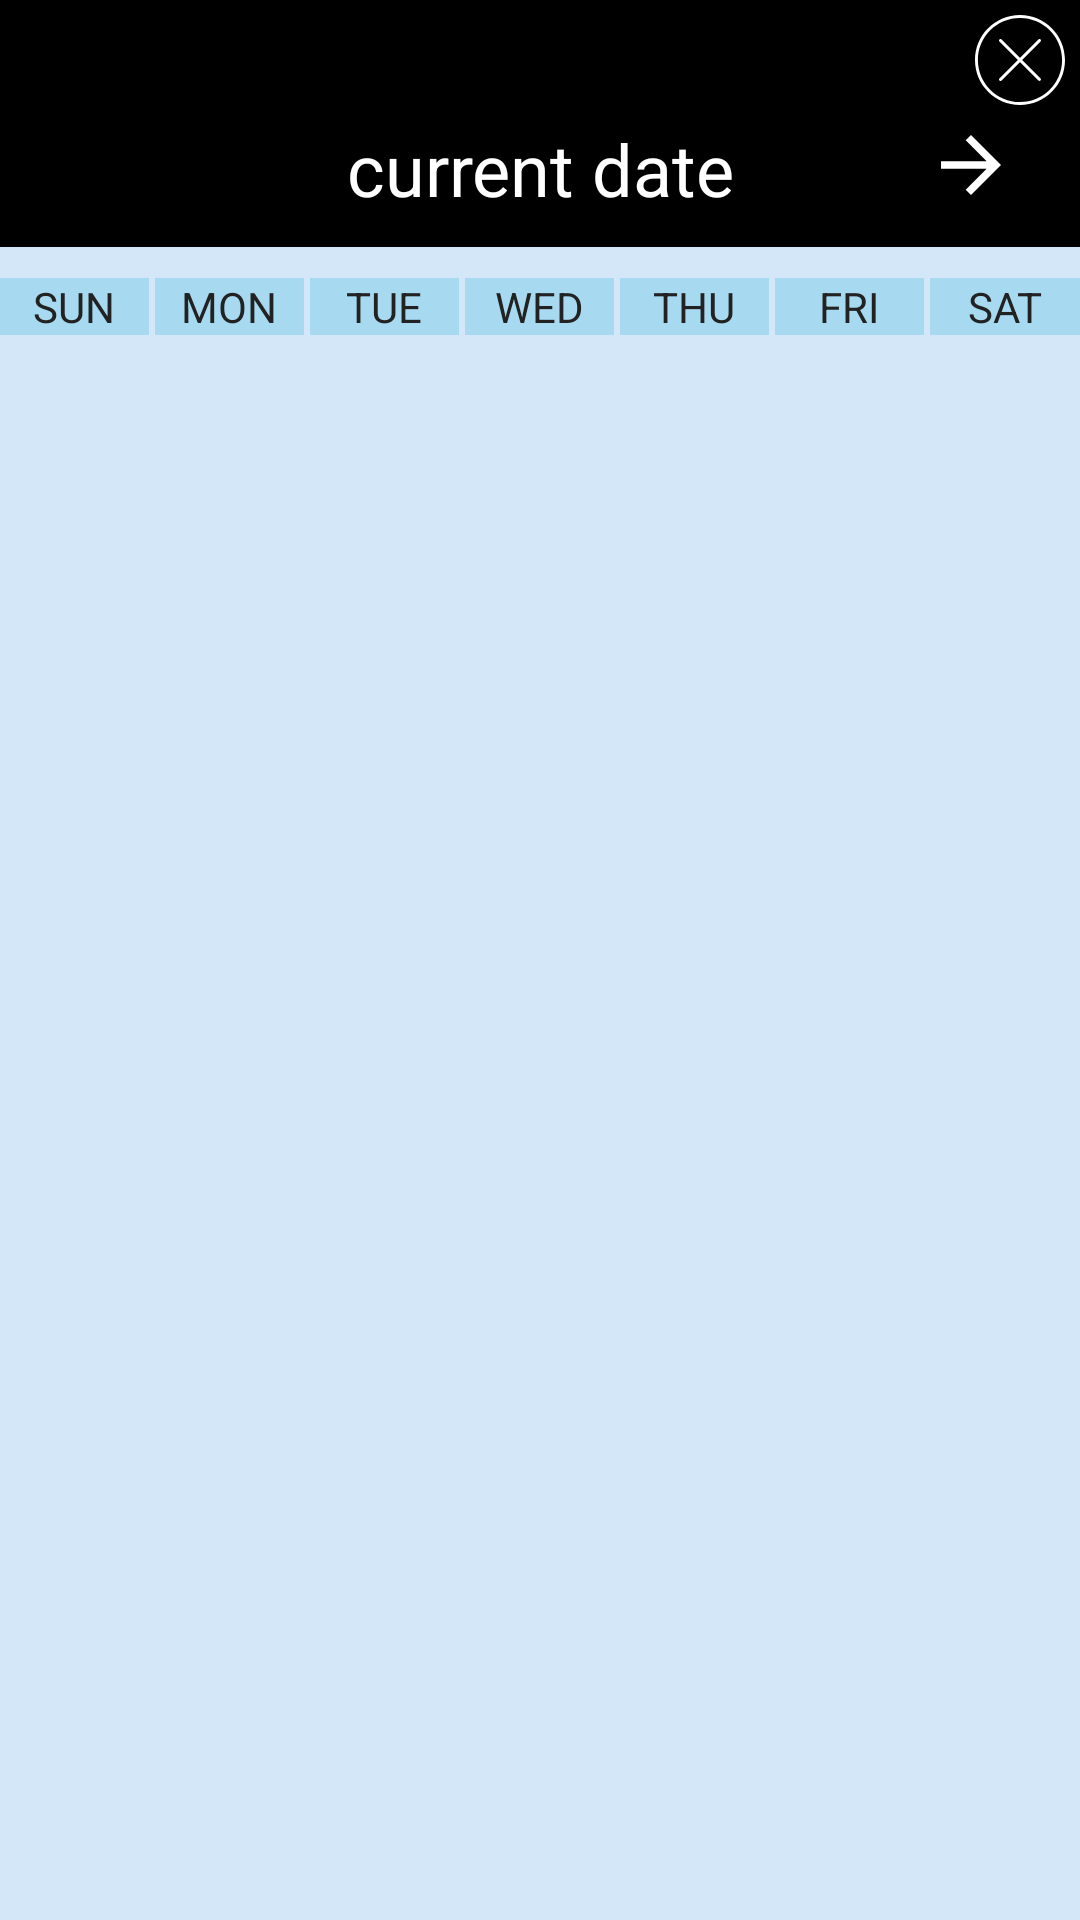

Named icons in this screenshot (1080px×1920px) and their centers, (x,y):
arrow forward: (971,165)
cancel: (1020,60)
